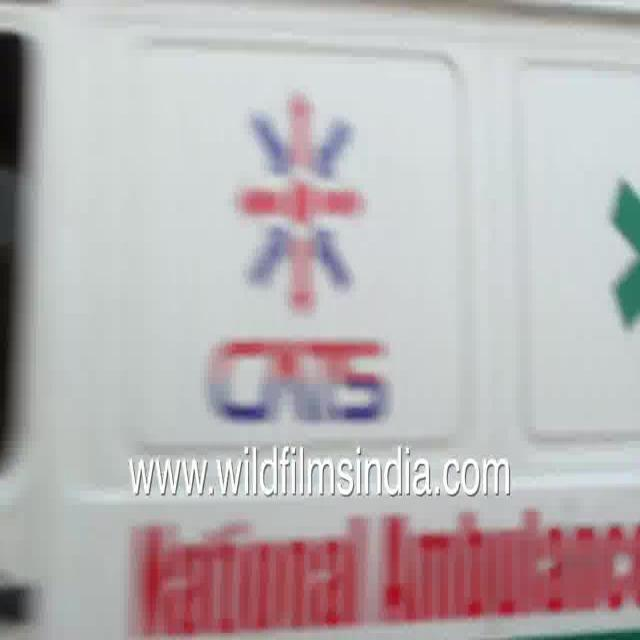ambulance: (0, 4, 640, 446)
